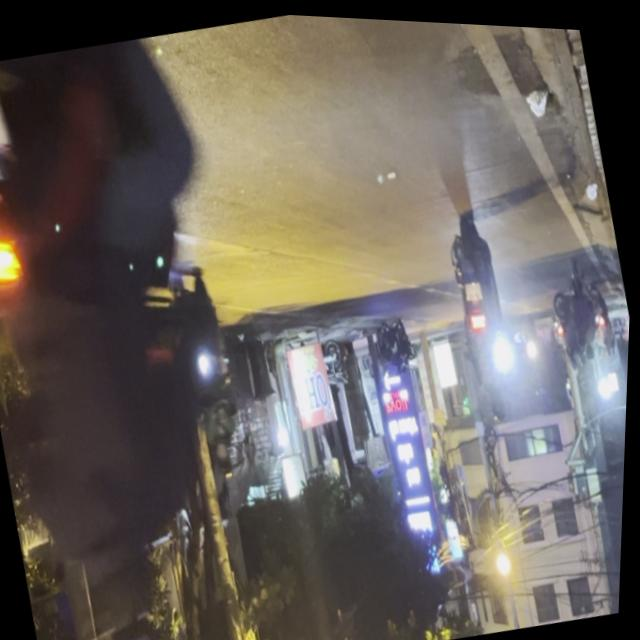helmet: (81, 541, 178, 640)
licenseplate: (0, 22, 313, 640)
nohelmet: (464, 276, 486, 300)
